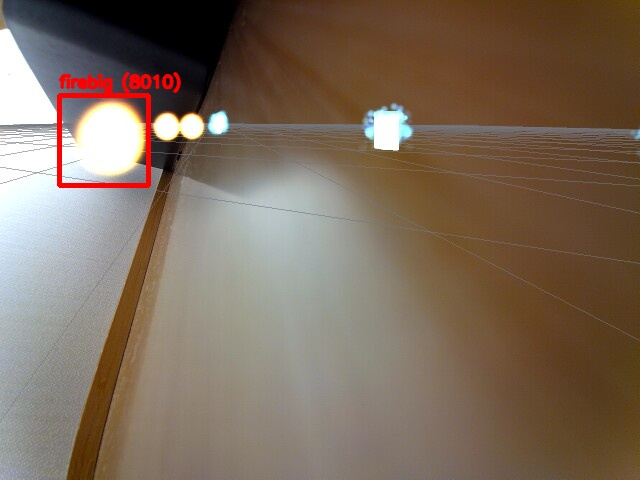firebig: (59, 95, 148, 185)
